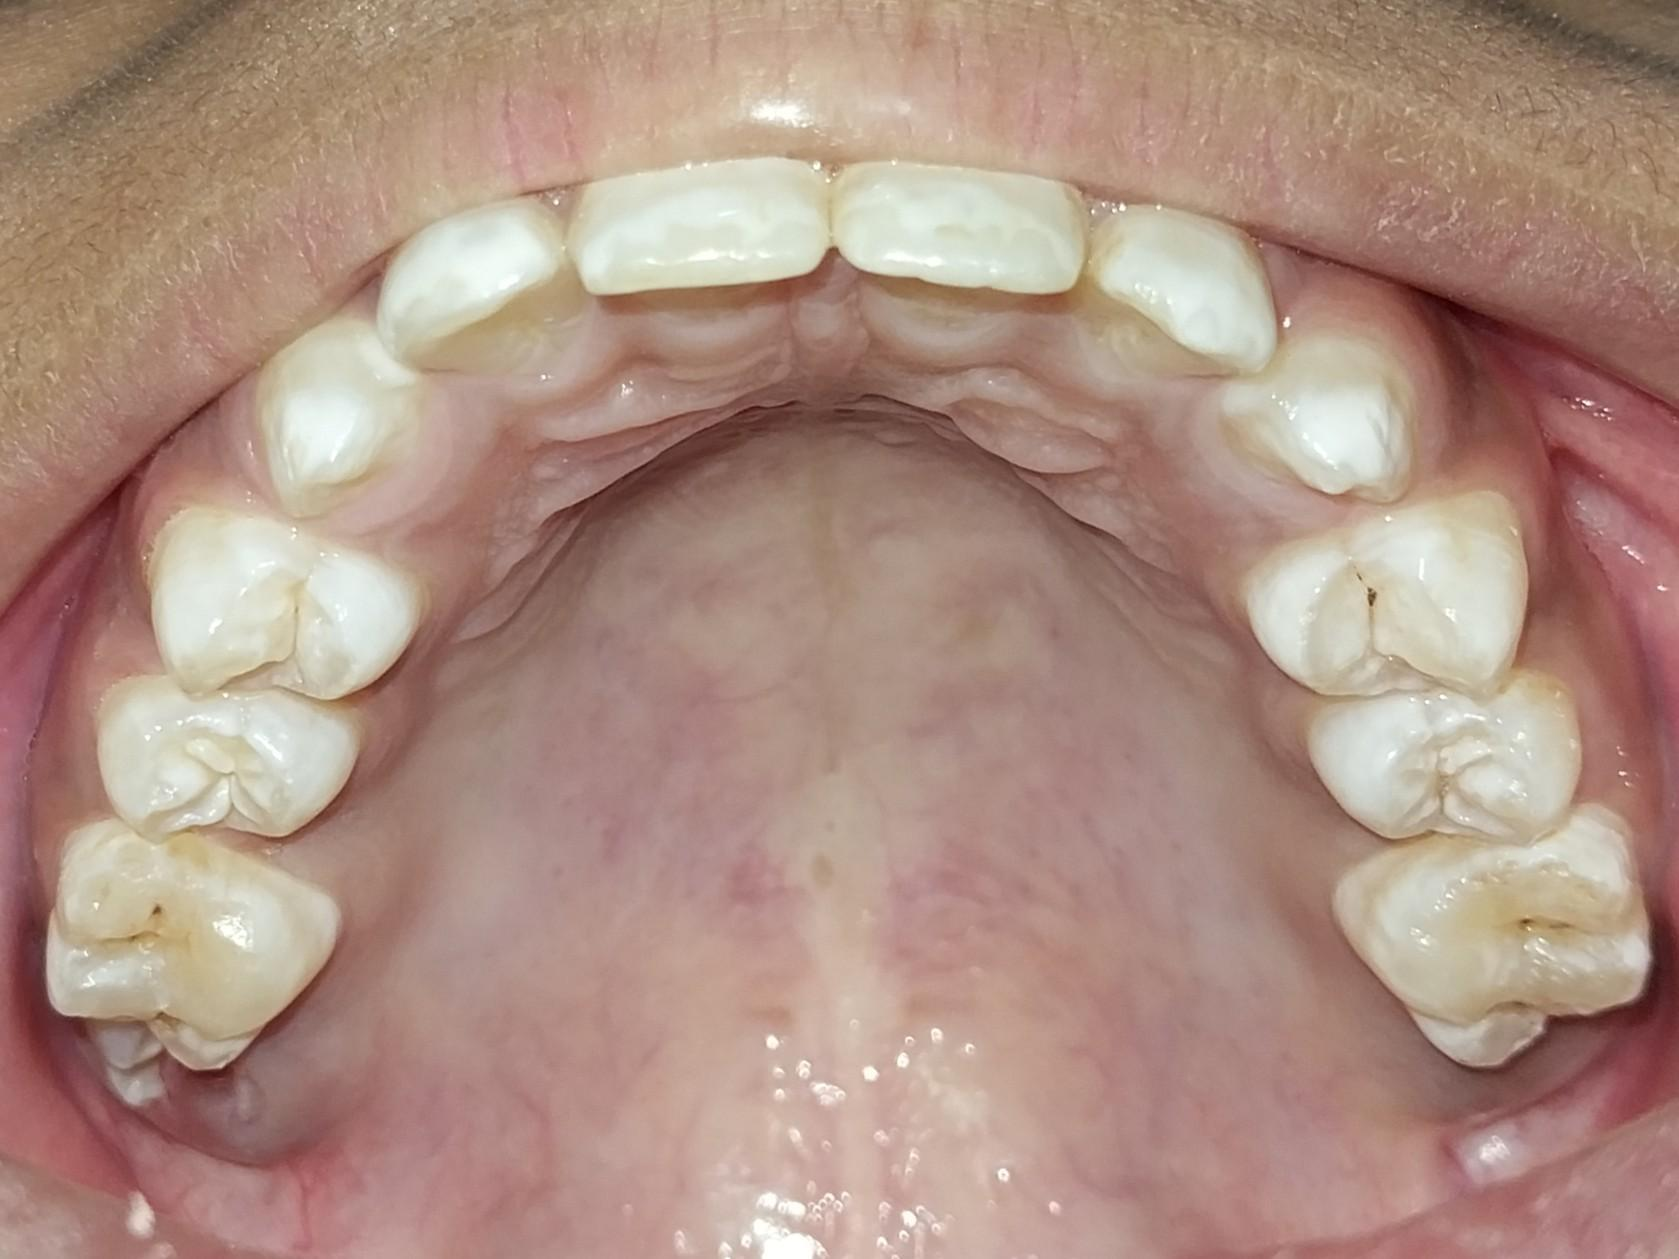D: (1331, 809, 1654, 1072), (45, 816, 337, 1075), (1241, 495, 1534, 702), (1304, 675, 1587, 851)
